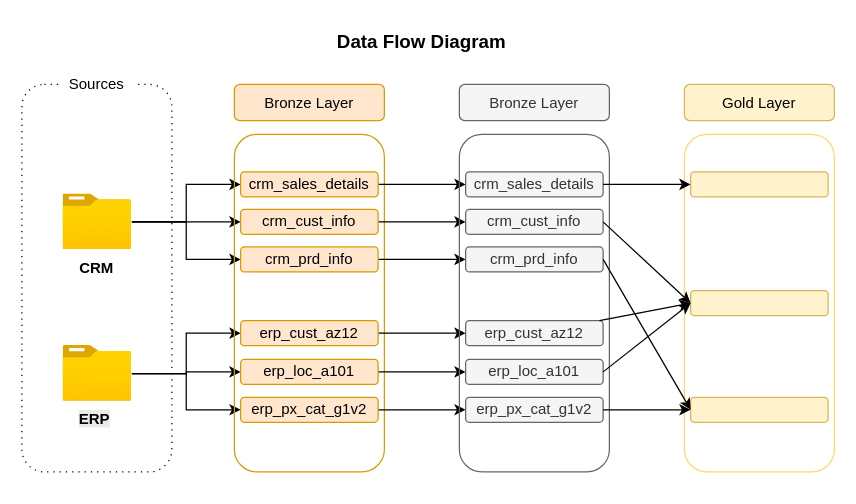
The diagram is 856 pixels wide and 504 high, and some of its shapes have lost their labels. Here are the shapes that lost their labels. From the top down, the centre of each, then its label:
At (x=758, y=184): "dim_sales".
At (x=758, y=302): "dim_customers".
At (x=758, y=409): "dim_products".
